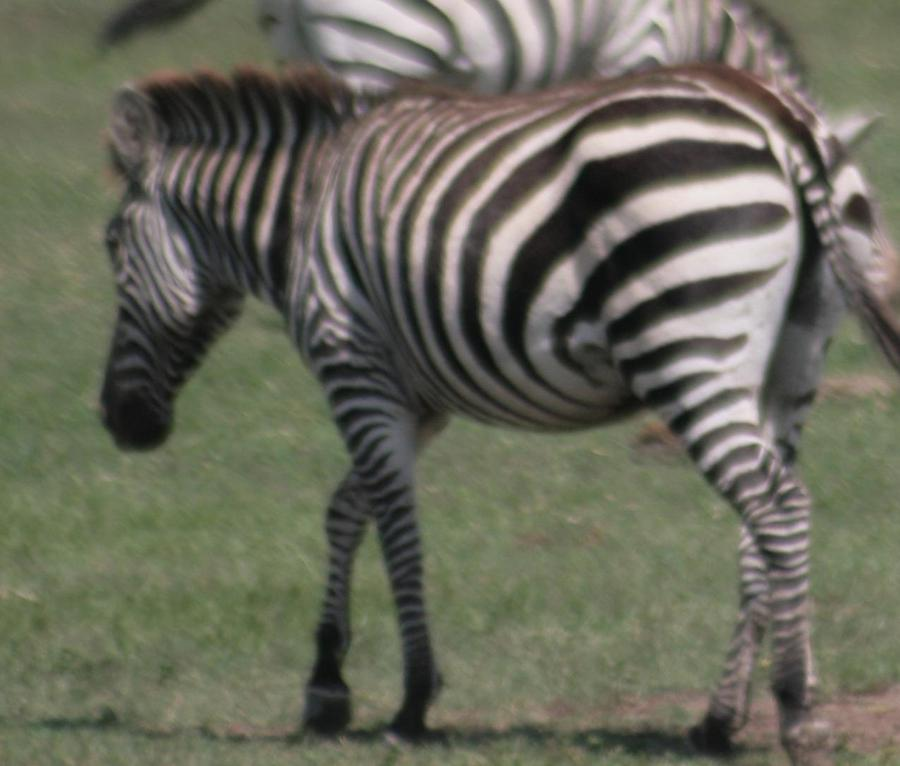zebra_plains: (229, 70, 807, 468)
